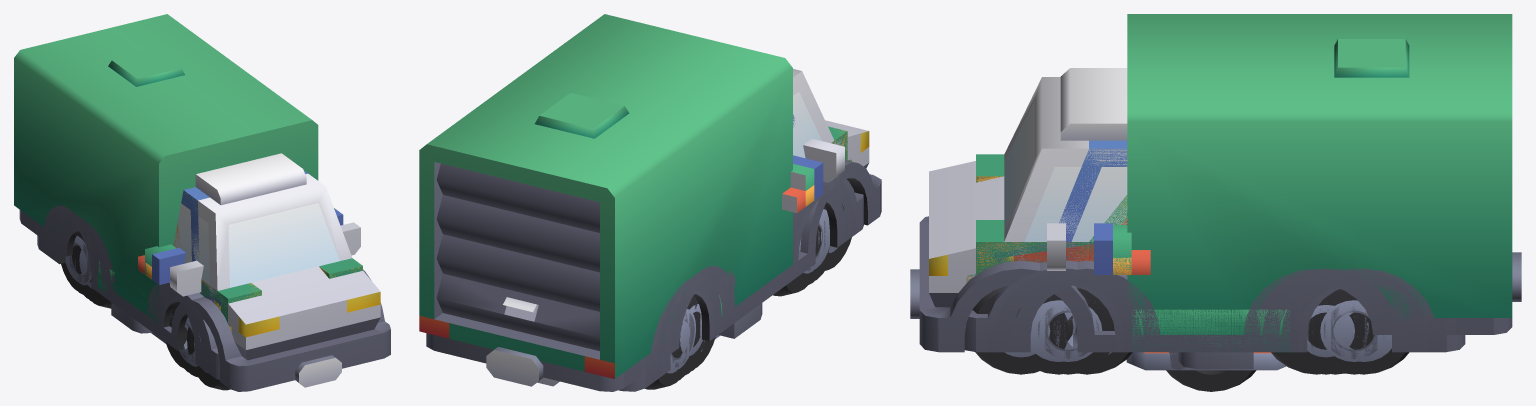
Rendered from car.glb.
The picture shows the model from 3 angles, left to right: view 1: azimuth 30°, elevation 25°; view 2: azimuth 150°, elevation 25°; view 3: azimuth 270°, elevation 25°; orthographic projection. The views are drawn at different scales.
Visible parts, largest first — view 1: body (×6), wheel-back-right (×4), wheel-front-right, debris-bumper; view 2: body (×6), door, wheel-back-right (×4), debris-bumper, wheel-front-right; view 3: body (×6), wheel-back-left (×6), wheel-front-left (×6), debris-bumper, debris-plate-a, debris-tire.
Boxes of the visible parts, x1=… form: body (×6): x1=14, y1=14, x2=390, y2=391; wheel-back-right (×4): x1=61, y1=233, x2=111, y2=308; wheel-front-right: x1=187, y1=327, x2=230, y2=390; debris-bumper: x1=111, y1=302, x2=152, y2=333; body (×6): x1=419, y1=14, x2=881, y2=391; door: x1=436, y1=163, x2=599, y2=351; wheel-back-right (×4): x1=645, y1=295, x2=710, y2=389; debris-bumper: x1=719, y1=303, x2=762, y2=338; wheel-front-right: x1=815, y1=228, x2=851, y2=270; body (×6): x1=910, y1=14, x2=1521, y2=352; wheel-back-left (×6): x1=1271, y1=289, x2=1409, y2=374; wheel-front-left (×6): x1=972, y1=287, x2=1132, y2=374; debris-bumper: x1=1169, y1=335, x2=1253, y2=370; debris-plate-a: x1=1126, y1=352, x2=1286, y2=370; debris-tire: x1=1166, y1=370, x2=1256, y2=391.
Bounding box in the file's own units: 1.5 × 1.95 × 3.25.
1 material, 1 textured.
